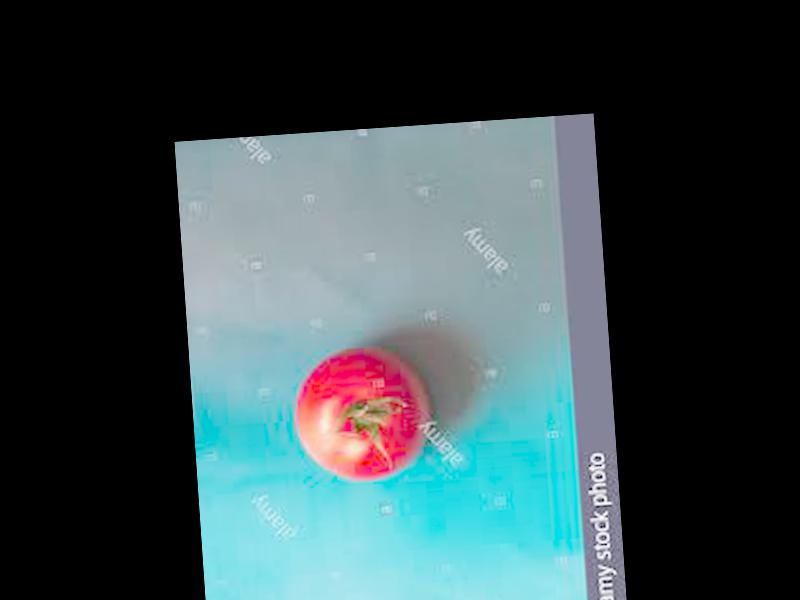Tomato: (290, 345, 434, 484)
